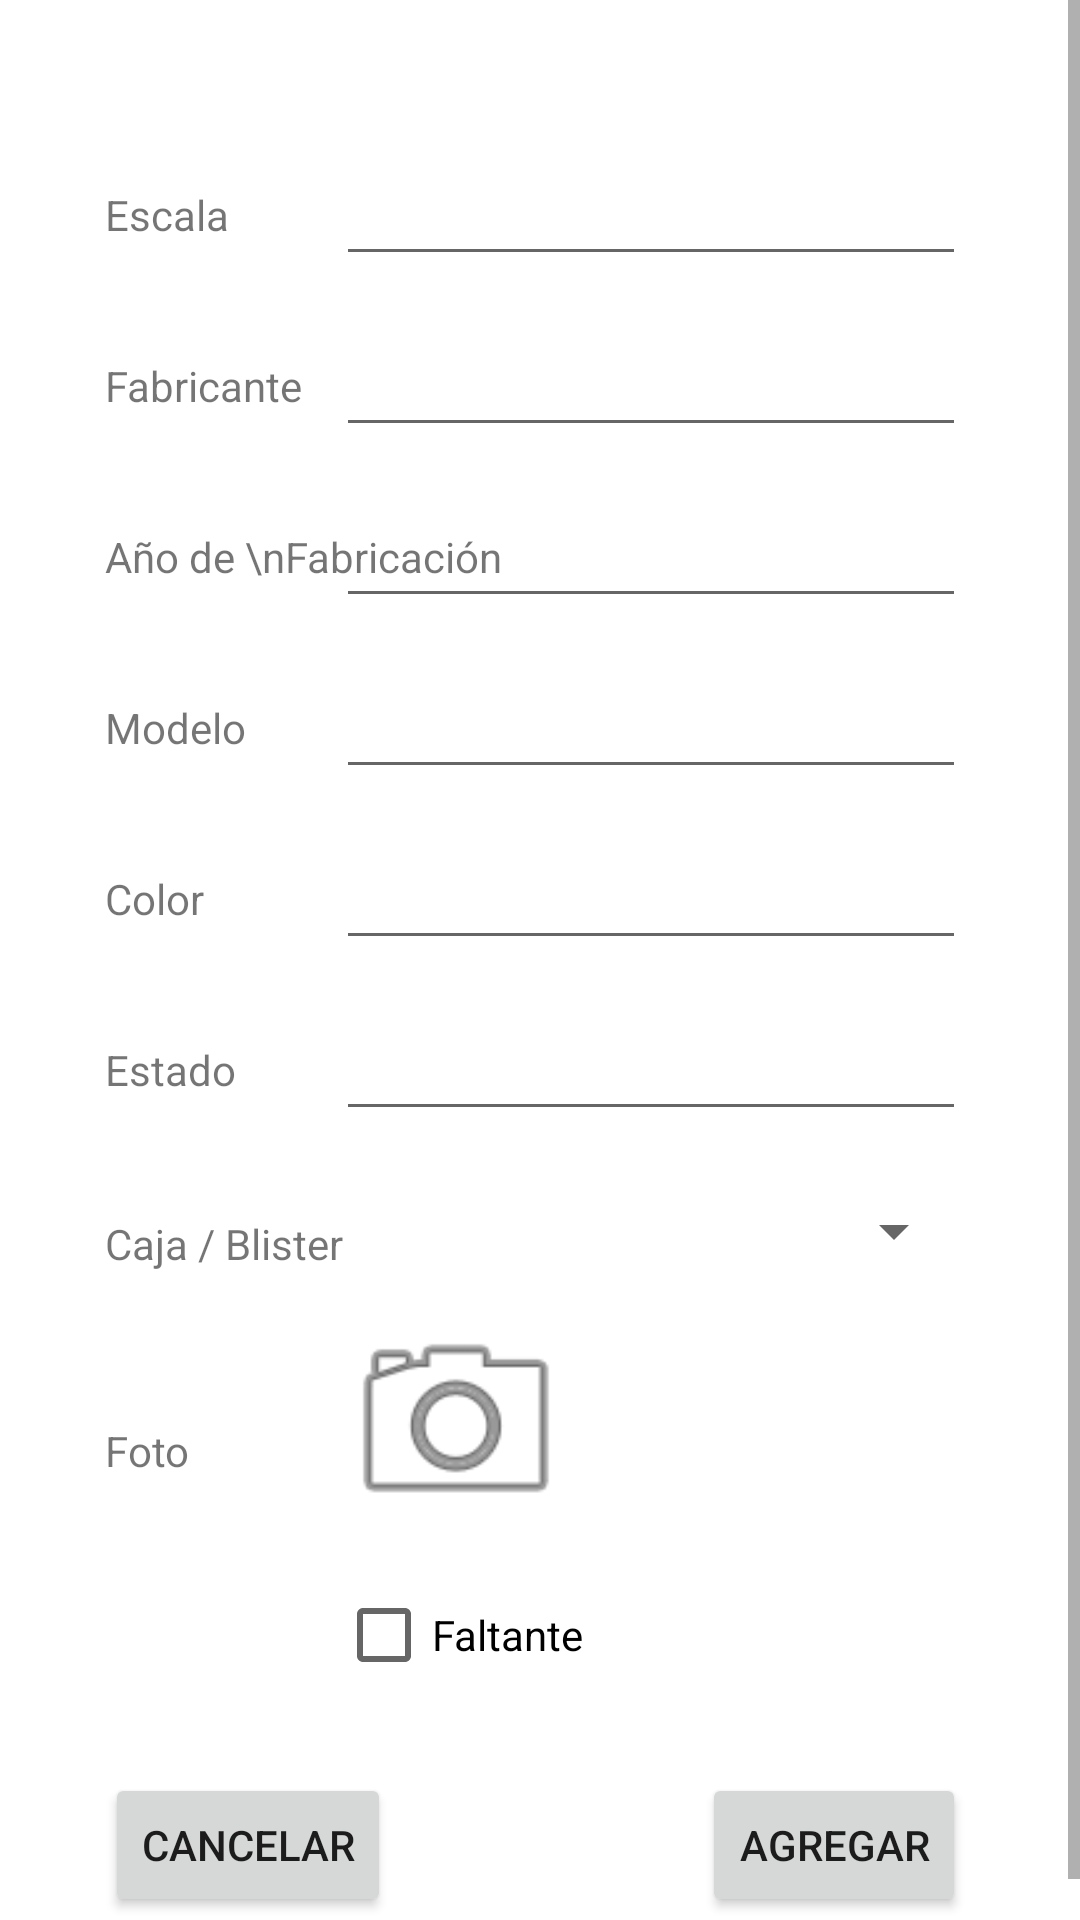

Named icons in this screenshot (1080 × 1920) and their bounding boxes, (x1, y1, x2, y2):
camera: (363, 1344, 549, 1492)
